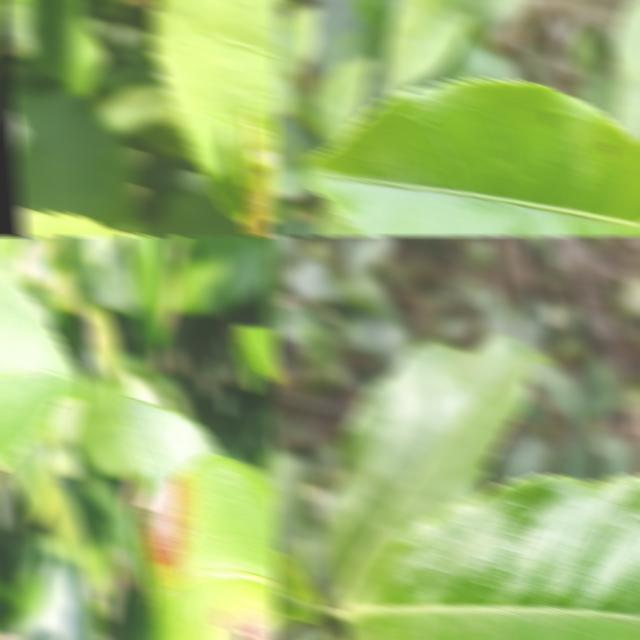Leaf: (324, 335, 548, 601), (305, 79, 640, 236), (338, 475, 640, 640), (150, 0, 278, 221), (134, 454, 278, 640), (7, 88, 136, 229), (71, 371, 167, 479), (0, 0, 107, 96), (119, 397, 220, 485), (383, 0, 474, 95), (172, 236, 275, 316), (21, 536, 92, 640), (312, 56, 375, 146), (125, 236, 170, 359), (143, 190, 246, 236), (272, 548, 323, 622), (81, 303, 121, 381), (315, 203, 358, 236)
